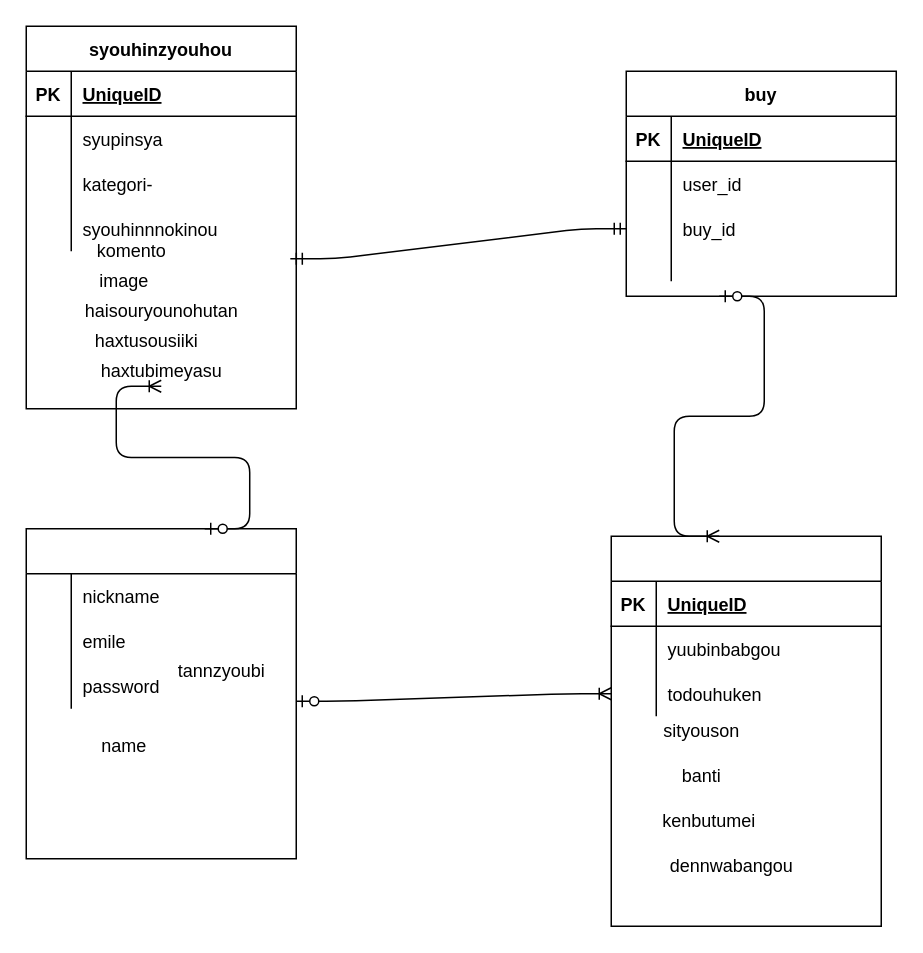
Some shapes in this 923 by 953 pixel diagram are drawn without their labels. The shapes that lost their labels are listed below. From the top down, each one's box as (x1, y1, x2, y2) in pixels, then its label:
(25, 527, 296, 859): users
(610, 535, 881, 926): osumai
